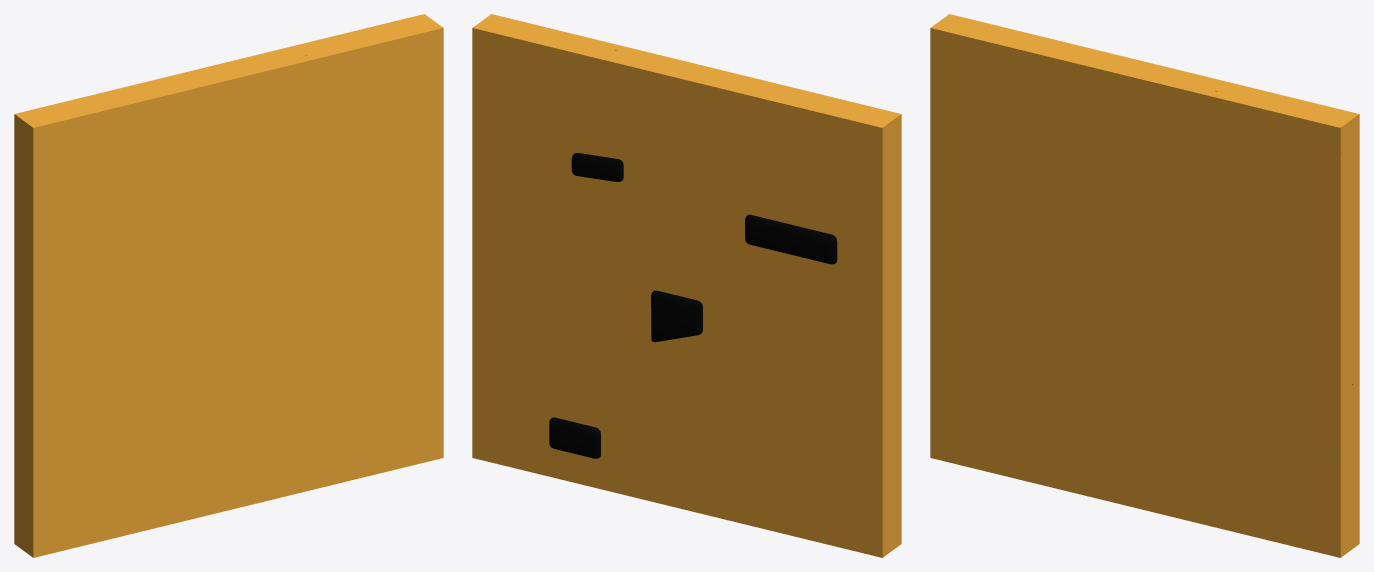
The model's file is Wall 8.fbx.
The picture shows the model from 3 angles, left to right: view 1: azimuth 30°, elevation 25°; view 2: azimuth 150°, elevation 25°; view 3: azimuth 330°, elevation 25°; orthographic projection.
Visible parts, largest first — view 1: Wall 8; view 2: Wall 8; view 3: Wall 8.
Boxes of the visible parts, x1,y1,x2,y2 form: Wall 8: (14, 14, 443, 557); Wall 8: (472, 14, 901, 557); Wall 8: (930, 14, 1359, 557).
Bounding box in the file's own units: 249 × 249 × 22.92.
1 material, 1 textured.
